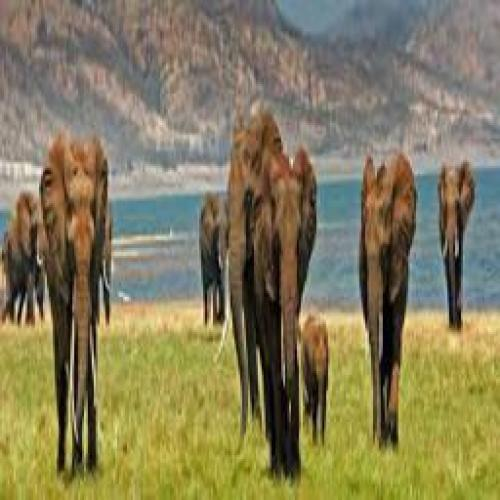african_elephant-endangered: (236, 142, 322, 472), (33, 139, 117, 471), (352, 147, 418, 456), (223, 115, 281, 322), (437, 162, 476, 340), (185, 194, 240, 320), (5, 182, 45, 319), (302, 317, 334, 436)
